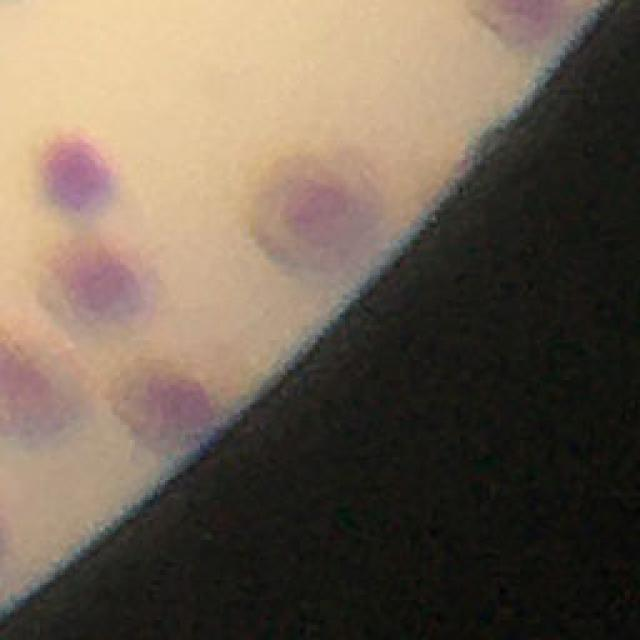RBC: (108, 356, 242, 475), (255, 153, 382, 276), (30, 235, 161, 347), (0, 321, 94, 453)
WBC: (43, 139, 120, 218)
